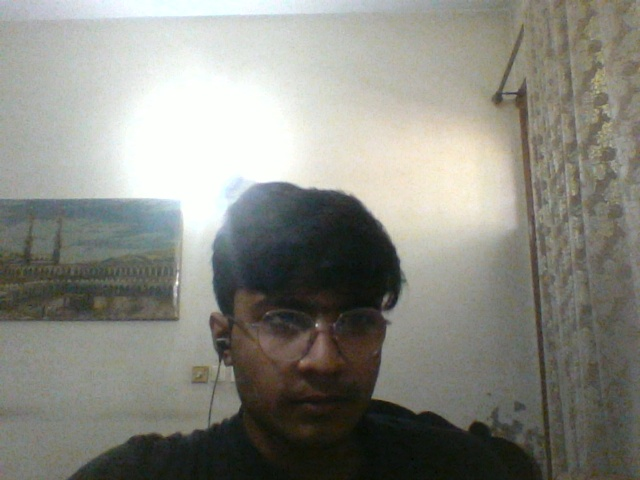neutral: (250, 299, 378, 423)
